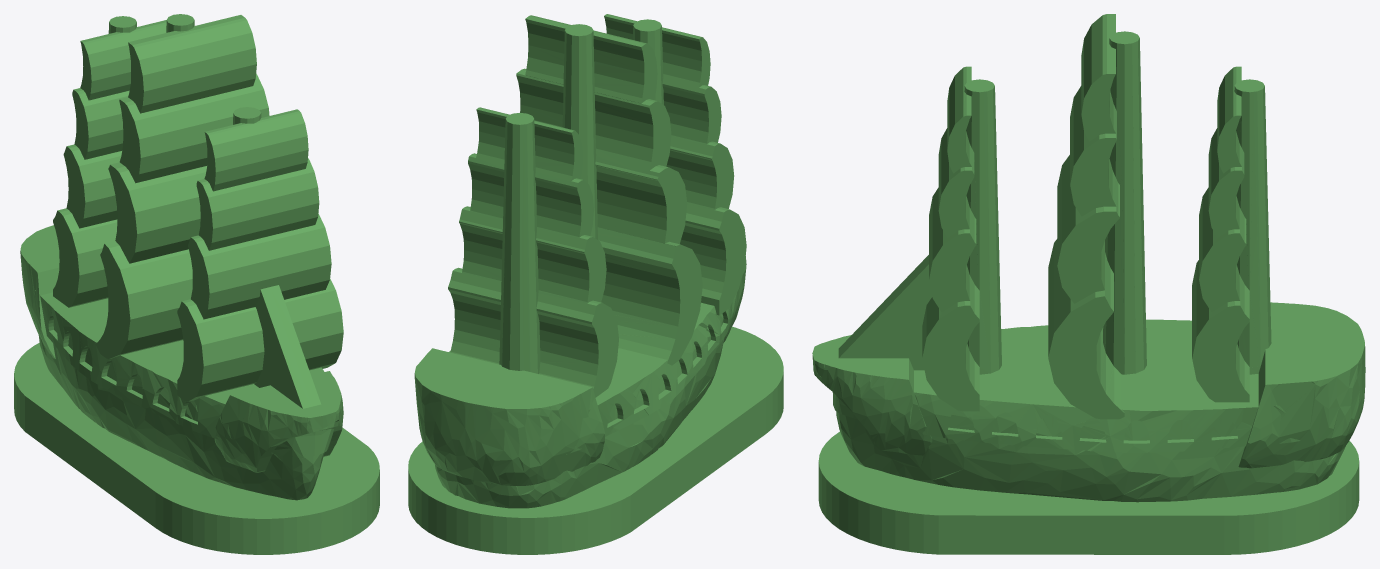
The model's file is flotta_elfica.glb.
3 views of the same model, side by side, from view 1: azimuth 30°, elevation 25°; view 2: azimuth 150°, elevation 25°; view 3: azimuth 270°, elevation 25° (orthographic). The views are drawn at different scales.
Parts seen in each view (by area): view 1: Ship_fixed; view 2: Ship_fixed; view 3: Ship_fixed.
Boxes of the visible parts, x1=… form: Ship_fixed: x1=14, y1=14, x2=379, y2=554; Ship_fixed: x1=408, y1=14, x2=783, y2=554; Ship_fixed: x1=812, y1=14, x2=1365, y2=554.
Bounding box in the file's own units: 1.2 × 2.36 × 2.56.
